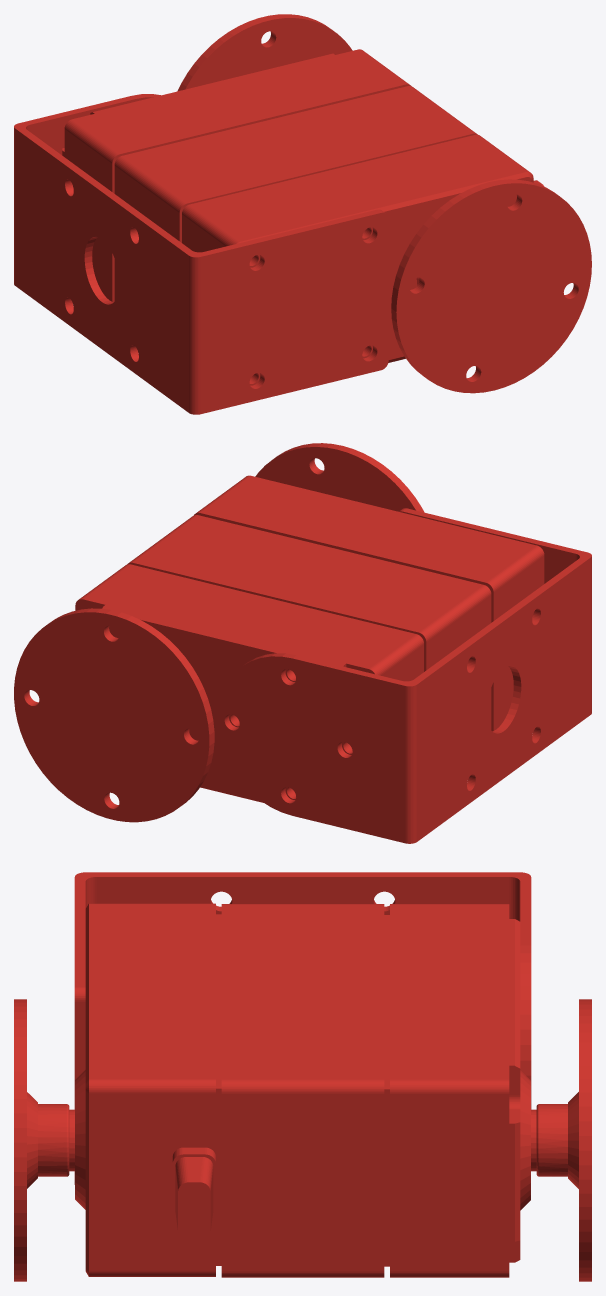
Rendered from motor_h_v1.dae.
3 views of the same model, one above another, from view 1: azimuth 30°, elevation 25°; view 2: azimuth 150°, elevation 25°; view 3: azimuth 270°, elevation 25° (orthographic). The views are drawn at different scales.
Visible parts, largest first — view 1: Full_motor_with_attachments; view 2: Full_motor_with_attachments; view 3: Full_motor_with_attachments.
Boxes of the visible parts, x1=… form: Full_motor_with_attachments: x1=14, y1=14, x2=591, y2=414; Full_motor_with_attachments: x1=14, y1=443, x2=591, y2=843; Full_motor_with_attachments: x1=14, y1=872, x2=591, y2=1281.
Bounding box in the file's own units: 0.0525 × 0.0532 × 0.026.
